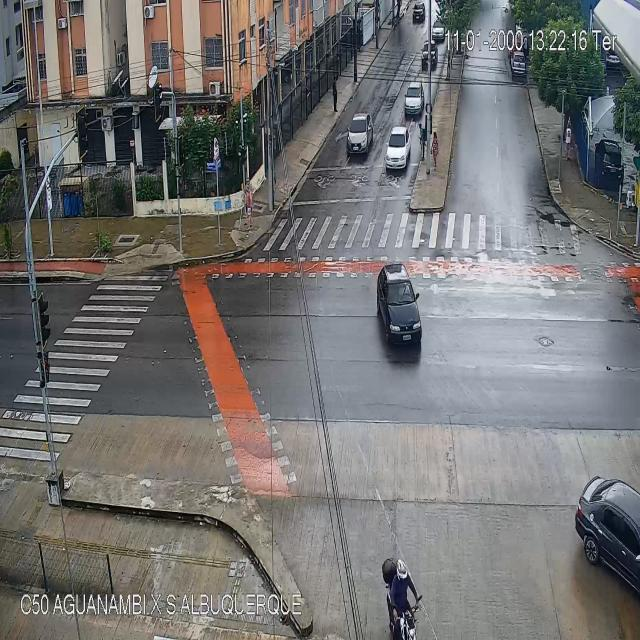Car: (574, 476, 640, 592), (376, 263, 421, 354), (386, 125, 411, 170), (348, 112, 373, 154), (404, 81, 424, 116), (421, 43, 438, 70), (432, 19, 445, 43), (512, 53, 525, 75), (413, 2, 425, 23)
Motorcycle: (382, 560, 422, 640)
